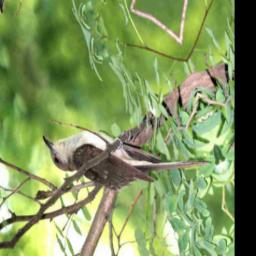Cuckoo: (42, 56, 212, 244)
